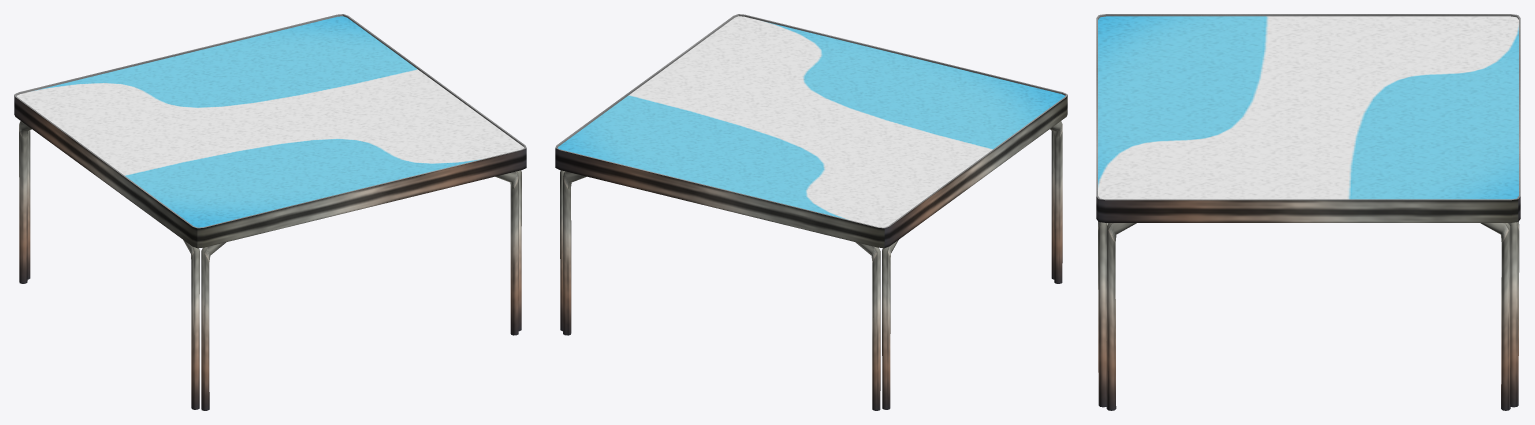
File: Dining_Table_01.FBX
3 renders of one model, left to right at view 1: azimuth 30°, elevation 25°; view 2: azimuth 150°, elevation 25°; view 3: azimuth 270°, elevation 25°, orthographic. The views are drawn at different scales.
Parts seen in each view (by area): view 1: Dining_Table; view 2: Dining_Table; view 3: Dining_Table.
Boxes of the visible parts, x1,y1,x2,y2 form: Dining_Table: [14, 14, 526, 410]; Dining_Table: [555, 14, 1067, 410]; Dining_Table: [1096, 14, 1520, 410].
Bounding box in the file's own units: 264 × 140 × 254.
